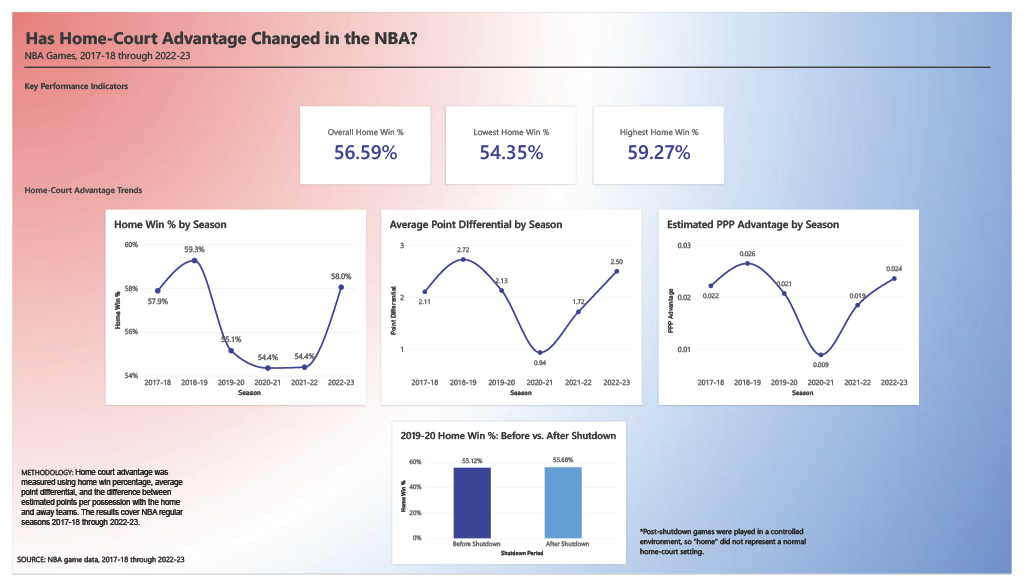

This screenshot's page, from the dashboard's own definition file:
{"tool":"powerbi","page":{"name":"Page 1","canvas":[1920,1080],"ordinal":0},"visuals":[{"type":"lineChart","title":"Home Win % by Season","fields":{"Category":["SeasonOrder.SEASON"],"Y":["nba_analysis nba_games.Home Win %"]},"box":[179.1,379.1,500,375],"z":0},{"type":"lineChart","title":"Average Point DIfferential by Season","fields":{"Category":["SeasonOrder.SEASON"],"Y":["SeasonOrder.Avg Pt Diff"]},"box":[709.3,379.1,500,375],"z":1000},{"type":"lineChart","title":"Estimated PPP Advantage by Season","fields":{"Category":["SeasonOrder.SEASON"],"Y":["nba_analysis nba_games.PPP Advantage"]},"box":[1241.9,379.1,500,375],"z":2000},{"type":"cardVisual","fields":{"Data":["nba_analysis nba_games.Home Win %"]},"box":[553.3,180,250,150],"z":3000},{"type":"cardVisual","fields":{"Data":["nba_analysis nba_games.Lowest Home Win %"]},"box":[833.3,180,250,150],"z":4000},{"type":"cardVisual","fields":{"Data":["SeasonOrder.Highest Home Win %"]},"box":[1116.7,180,250,150],"z":5000},{"type":"clusteredColumnChart","title":"2019-20 Home Win %: Before vs. After Shutdown","fields":{"Category":["nba_analysis nba_games.Shutdown Period"],"Y":["nba_analysis nba_games.Shutdown Home Win %"]},"box":[730.2,786,448.8,274.4],"z":6000},{"type":"textbox","box":[23.3,25.6,756.7,52.2],"z":7000},{"type":"textbox","box":[23.3,51.2,455.2,76.1],"z":8000},{"type":"textbox","box":[1206.4,987.2,323.4,74.5],"z":9000},{"type":"textbox","box":[9.3,1040.7,333.3,39.2],"z":10000},{"type":"textbox","box":[23.3,130.2,250,150],"z":11000},{"type":"textbox","box":[23.3,330.2,250,150],"z":12000},{"type":"textbox","box":[16.7,874.1,325,150],"z":13000},{"type":"shape","title":"hghgh","box":[23.3,30,1856.7,150],"z":14000}]}

Visuals, with their boxes in screenshot pixels (x1, y1, x2, y2), scaled from the page's 1920x1080 canvas onto the 1024x587 screenshot:
"Home Win % by Season" lineChart: x1=96, y1=206, x2=362, y2=410
"Average Point DIfferential by Season" lineChart: x1=378, y1=206, x2=645, y2=410
"Estimated PPP Advantage by Season" lineChart: x1=662, y1=206, x2=929, y2=410
cardVisual - nba_analysis nba_games.Home Win %: x1=295, y1=98, x2=428, y2=179
cardVisual - nba_analysis nba_games.Lowest Home Win %: x1=444, y1=98, x2=578, y2=179
cardVisual - SeasonOrder.Highest Home Win %: x1=596, y1=98, x2=729, y2=179
"2019-20 Home Win %: Before vs. After Shutdown" clusteredColumnChart: x1=389, y1=427, x2=629, y2=576
textbox: x1=12, y1=14, x2=416, y2=42
textbox: x1=12, y1=28, x2=255, y2=69
textbox: x1=643, y1=537, x2=816, y2=577
textbox: x1=5, y1=566, x2=183, y2=586
textbox: x1=12, y1=71, x2=146, y2=152
textbox: x1=12, y1=179, x2=146, y2=261
textbox: x1=9, y1=475, x2=182, y2=557
"hghgh" shape: x1=12, y1=16, x2=1003, y2=98
